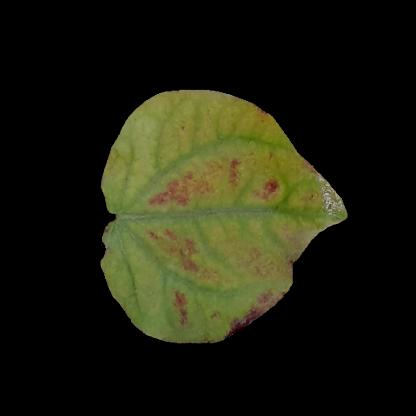curl_stage1: (180, 199, 278, 289), (225, 130, 287, 204), (127, 222, 164, 336), (127, 127, 167, 215), (183, 112, 277, 148), (278, 162, 312, 230)
